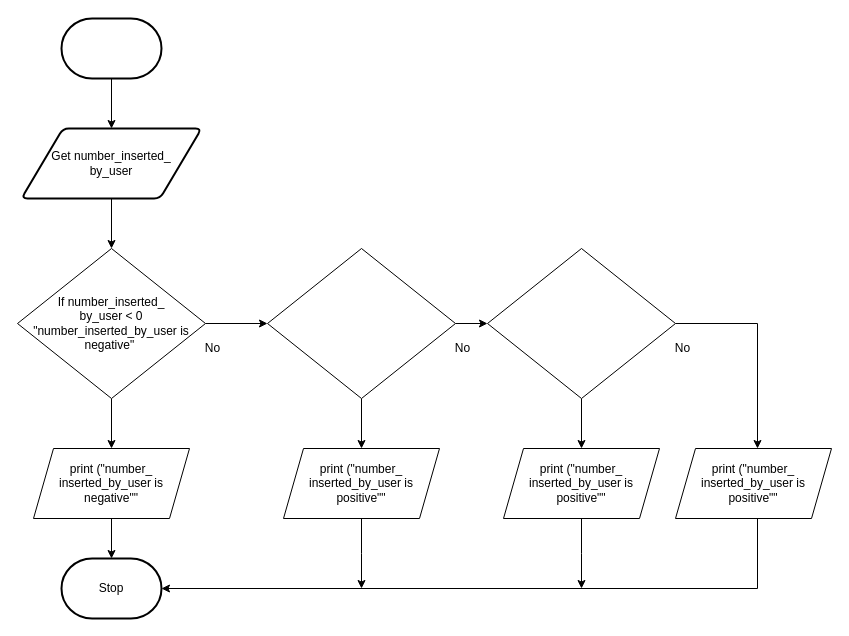
Image size: 849x636. Some labels were removed from this diagram. Each missing label, with the centre of its shape:
If number_inserted_ by_user = 0 "number_inserted_by_user is 0": point (581, 323)
If number_inserted_ by_user > 0 "number_inserted_by_user is positive": point (361, 323)
Start: point (111, 48)
